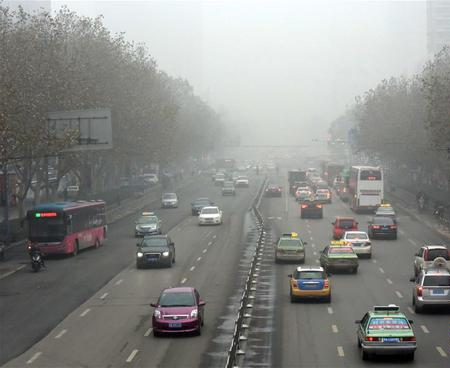bus: (19, 200, 107, 257), (346, 165, 383, 213)
car: (354, 304, 418, 361), (149, 286, 207, 339), (409, 269, 450, 313), (286, 264, 331, 301), (316, 239, 358, 273), (135, 235, 176, 268), (412, 244, 449, 278), (272, 230, 307, 263), (340, 229, 371, 259), (364, 216, 397, 240), (134, 210, 163, 237), (330, 216, 359, 239), (299, 197, 322, 220), (373, 203, 397, 225), (196, 205, 221, 226), (27, 243, 46, 270), (190, 196, 214, 216), (159, 192, 179, 211), (311, 178, 328, 195), (313, 188, 332, 203), (294, 185, 310, 202), (220, 181, 236, 197), (264, 183, 281, 198), (235, 175, 249, 189), (213, 173, 226, 187)
motorbike: (30, 249, 44, 272)
